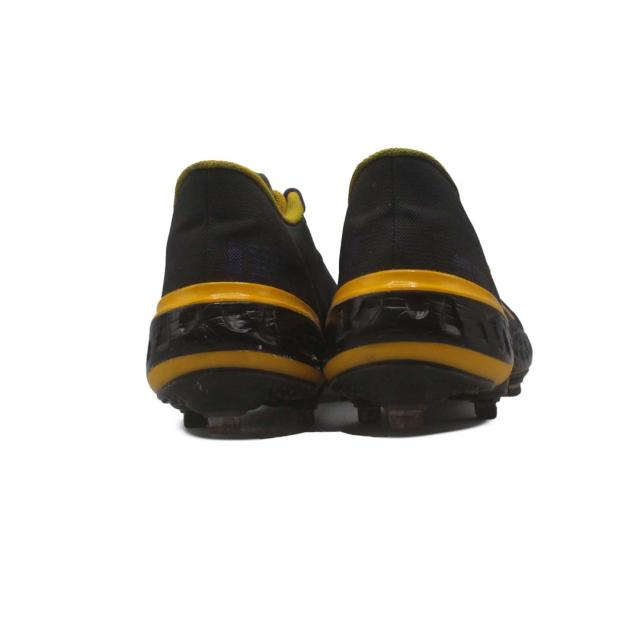heel: (329, 151, 504, 294), (163, 163, 304, 302)
midsole: (324, 272, 518, 401), (147, 280, 321, 417)
